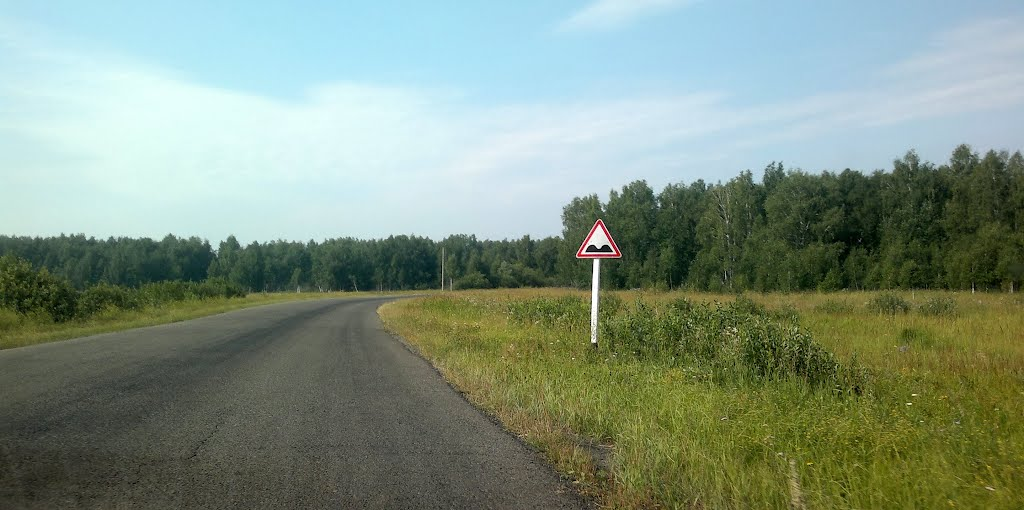1.16.2: (576, 221, 625, 258)
